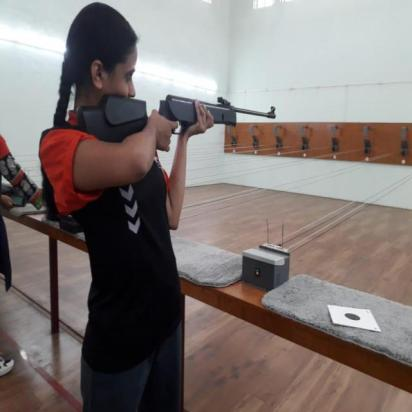Gun: (73, 91, 278, 145)
